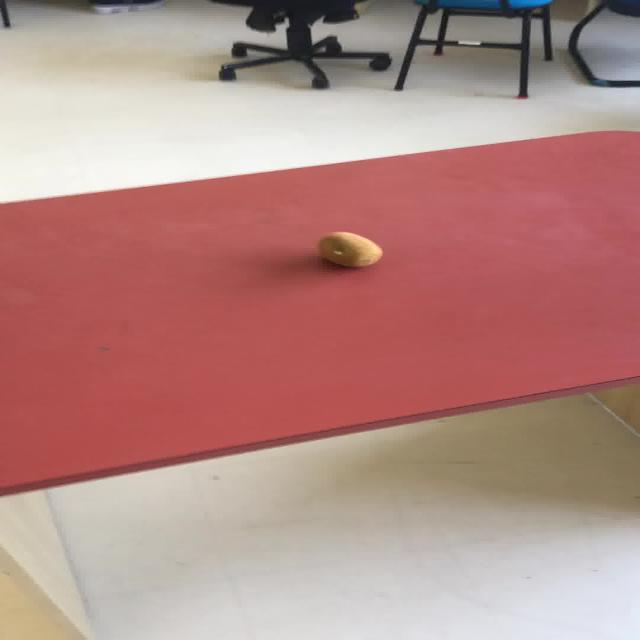kiwi: (316, 230, 382, 267)
